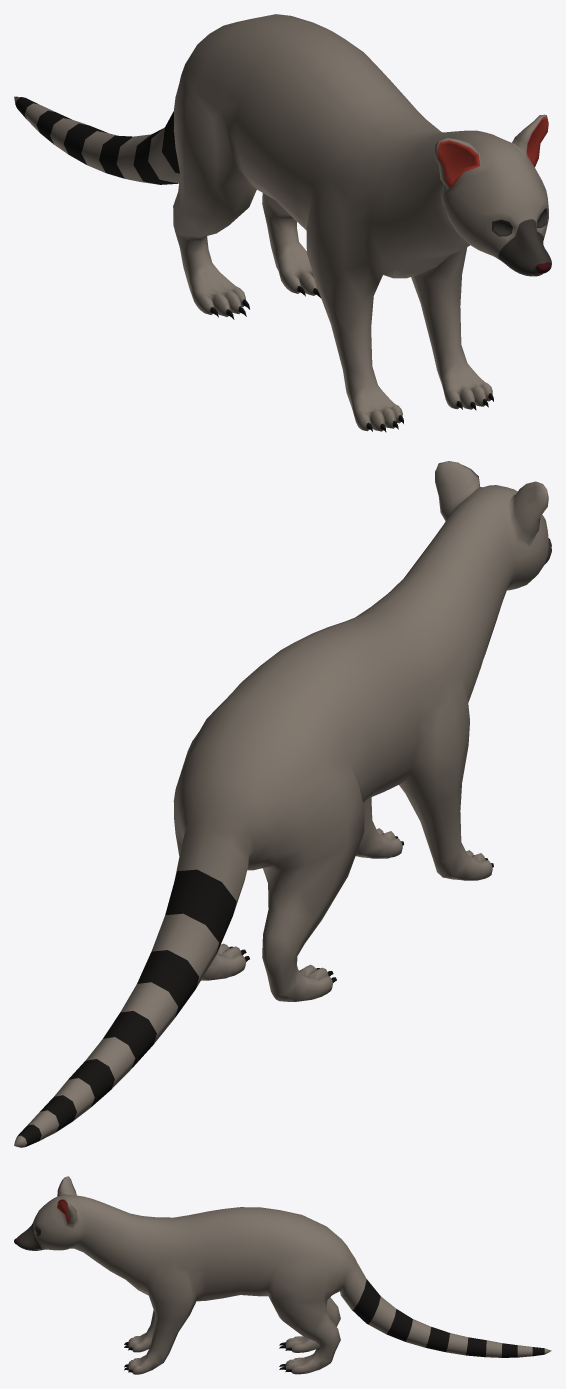
File: genet_genet.obj
3 renders of one model, top to bottom at view 1: azimuth 30°, elevation 25°; view 2: azimuth 150°, elevation 25°; view 3: azimuth 270°, elevation 25°, orthographic. The views are drawn at different scales.
Parts seen in each view (by area): view 1: genet; view 2: genet; view 3: genet.
Part boxes in pixels (x1,y1,x2,y2): genet: (14,14,551,432); genet: (14,461,551,1147); genet: (14,1176,551,1374).
Bounding box in the file's own units: 0.2597 × 0.5128 × 1.46.
